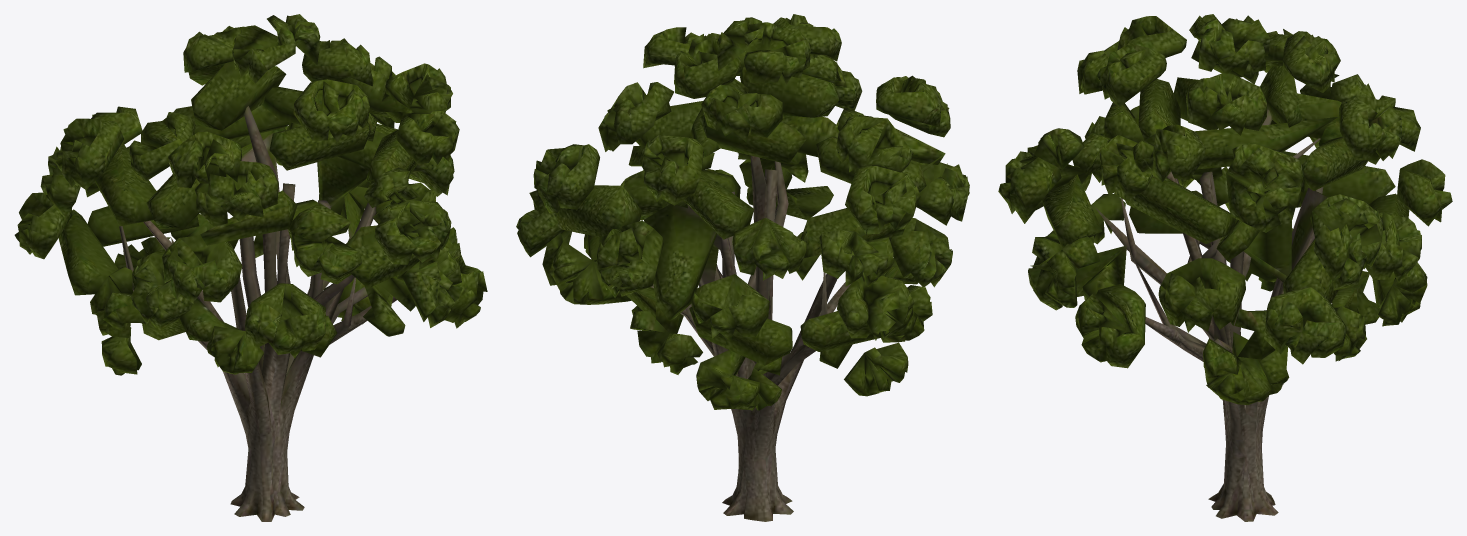
Rendered from vegetation-tree.glb.
The picture shows the model from 3 angles, left to right: view 1: azimuth 30°, elevation 25°; view 2: azimuth 150°, elevation 25°; view 3: azimuth 270°, elevation 25°; orthographic projection. The views are drawn at different scales.
Visible parts, largest first — view 1: tripo_node_18cb8f09-c604-4d29-a3de-68f189475374; view 2: tripo_node_18cb8f09-c604-4d29-a3de-68f189475374; view 3: tripo_node_18cb8f09-c604-4d29-a3de-68f189475374.
Boxes of the visible parts, x1,y1,x2,y2 form: tripo_node_18cb8f09-c604-4d29-a3de-68f189475374: (14, 14, 487, 521); tripo_node_18cb8f09-c604-4d29-a3de-68f189475374: (516, 14, 969, 521); tripo_node_18cb8f09-c604-4d29-a3de-68f189475374: (998, 14, 1452, 521).
Size of the model in its own units: 0.8848 by 0.998 by 0.8418.
Materials: 1 (1 with a texture image).
